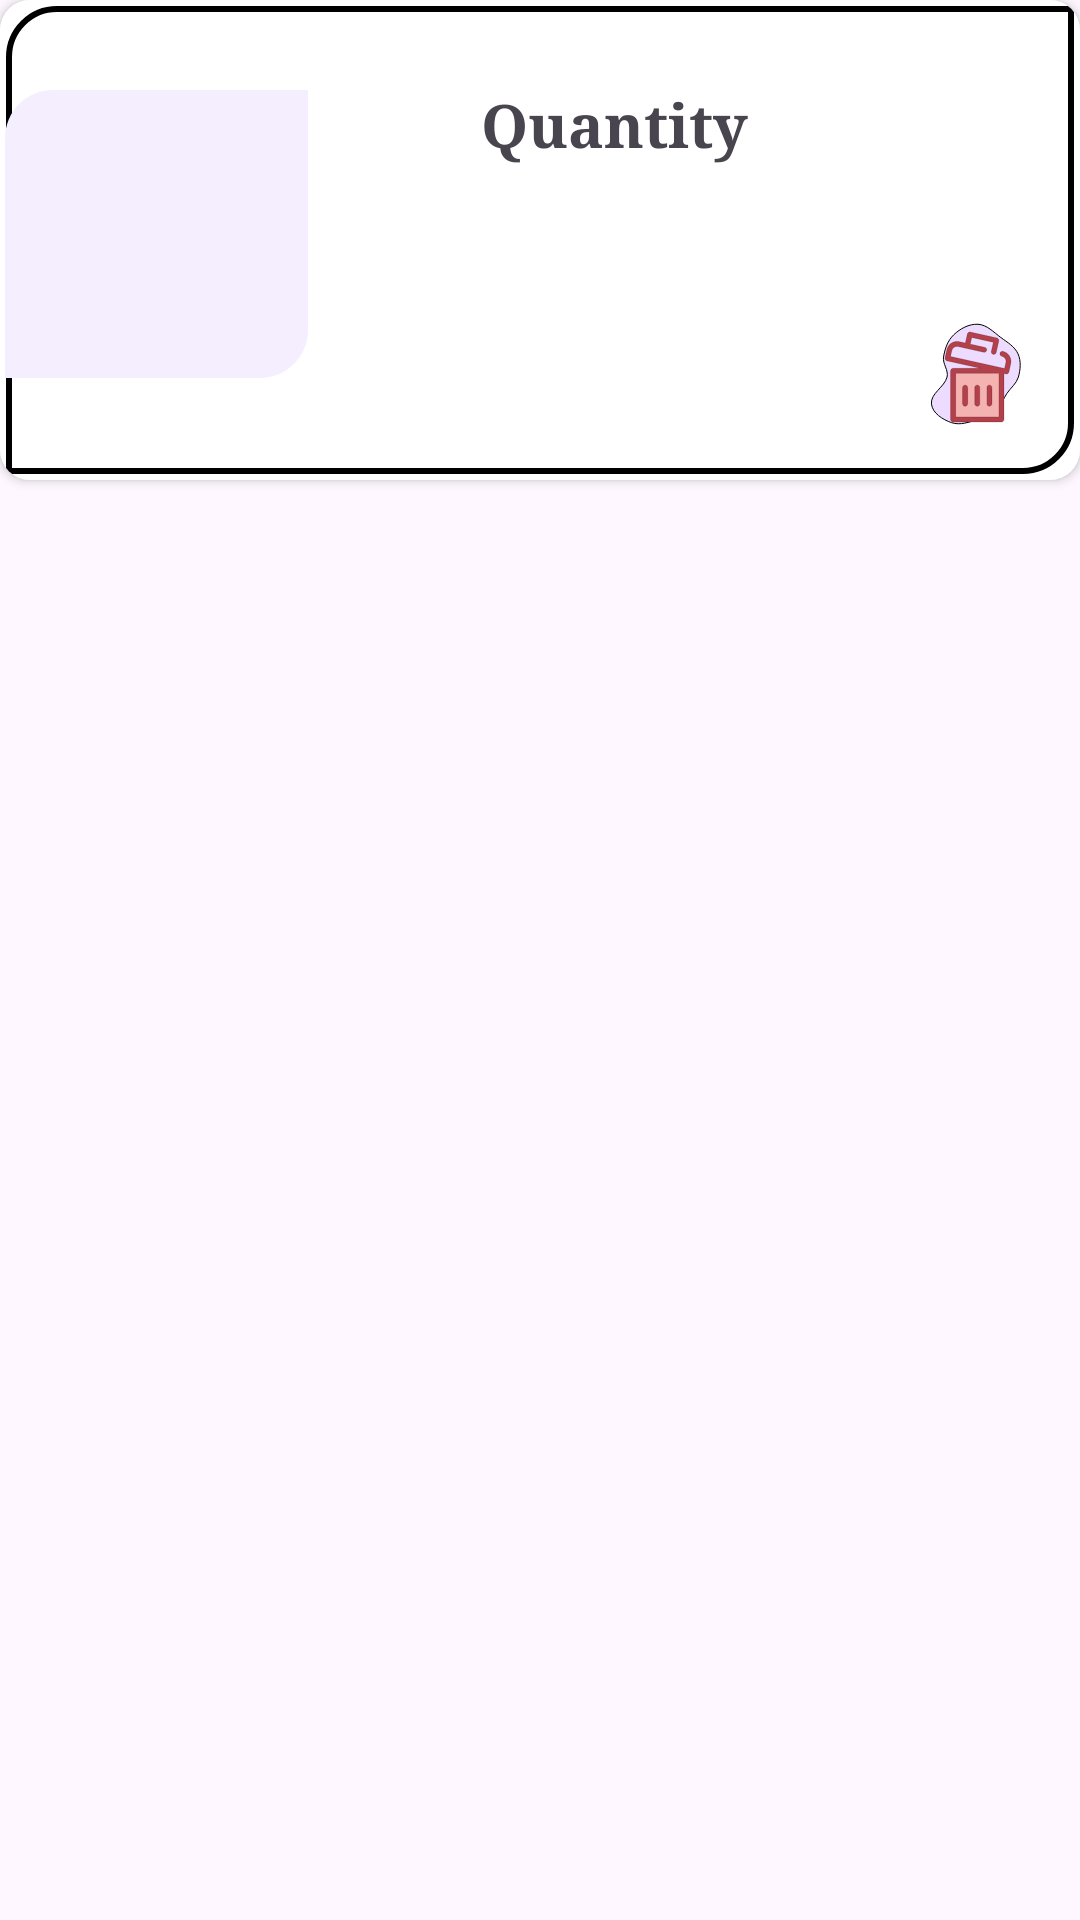

Screen size 1080*1920. Icon name, then its box in pixels as [left=x1, top=y1, right=x2, bottom=y2]:
delete trash: [left=931, top=323, right=1021, bottom=425]
